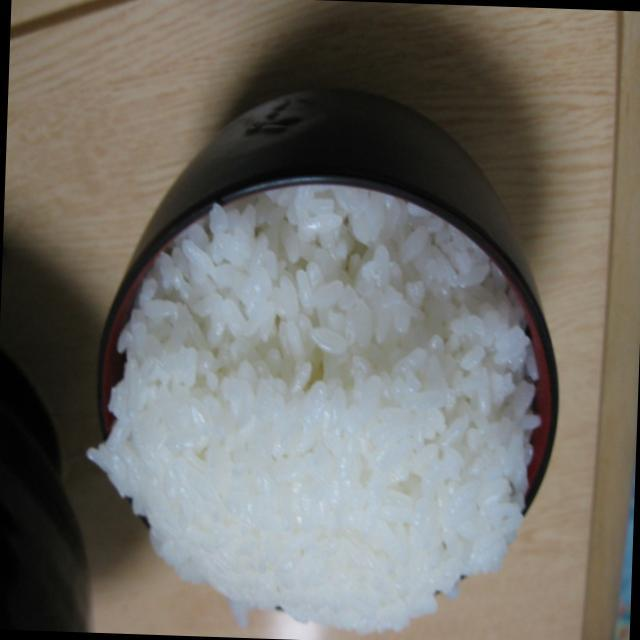Rice: (96, 182, 541, 640)
